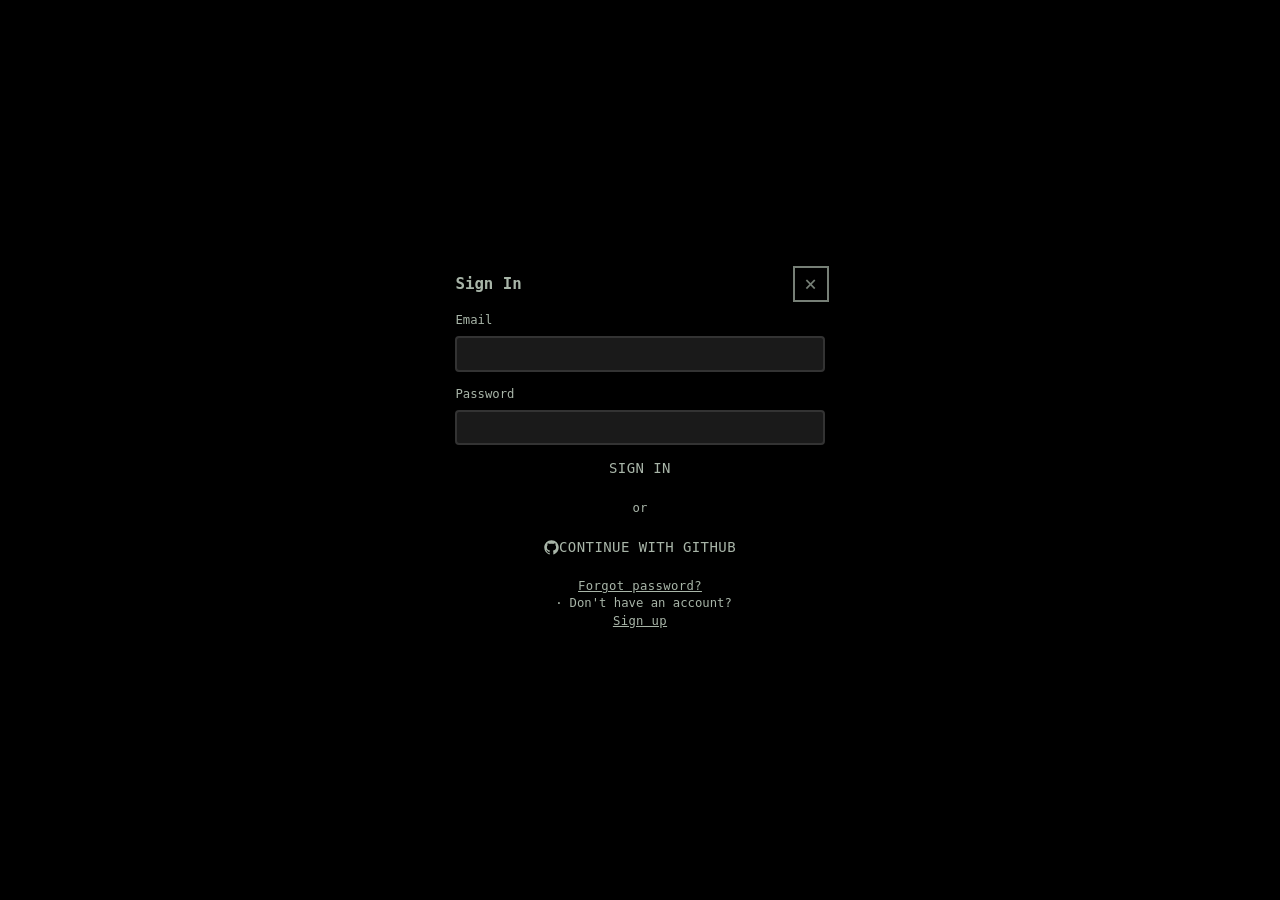
AuthModal › forgot password flow › switches to forgot password mode
Click the button "Forgot password?": (640, 587) [455,578,824,595]
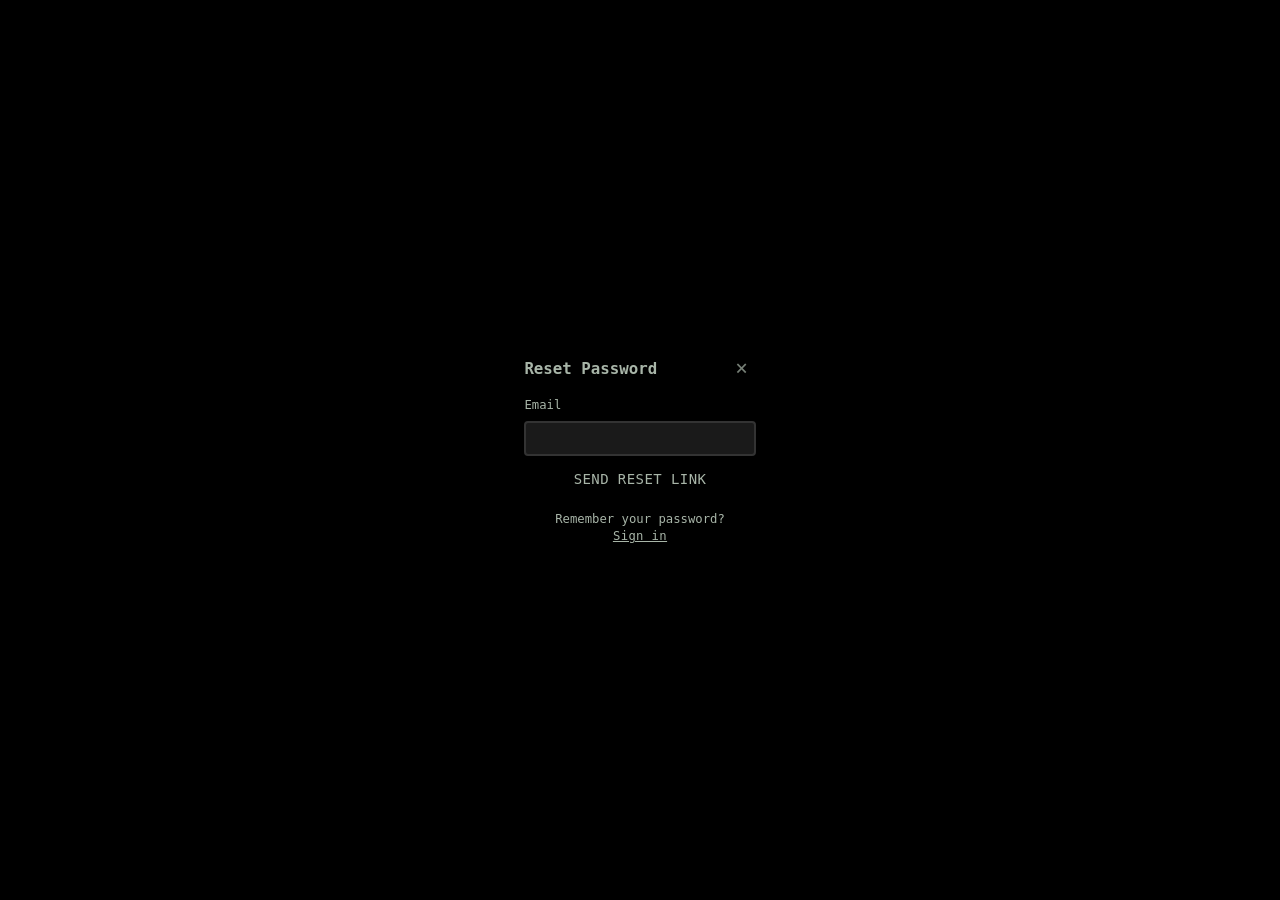
Check: the heading "Reset Password" is shown, box [524,358,657,380]
